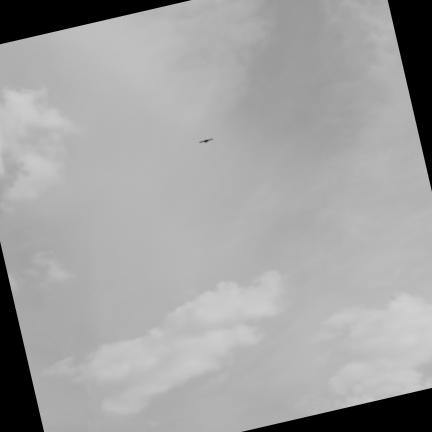Shahed: (198, 138, 214, 144)
